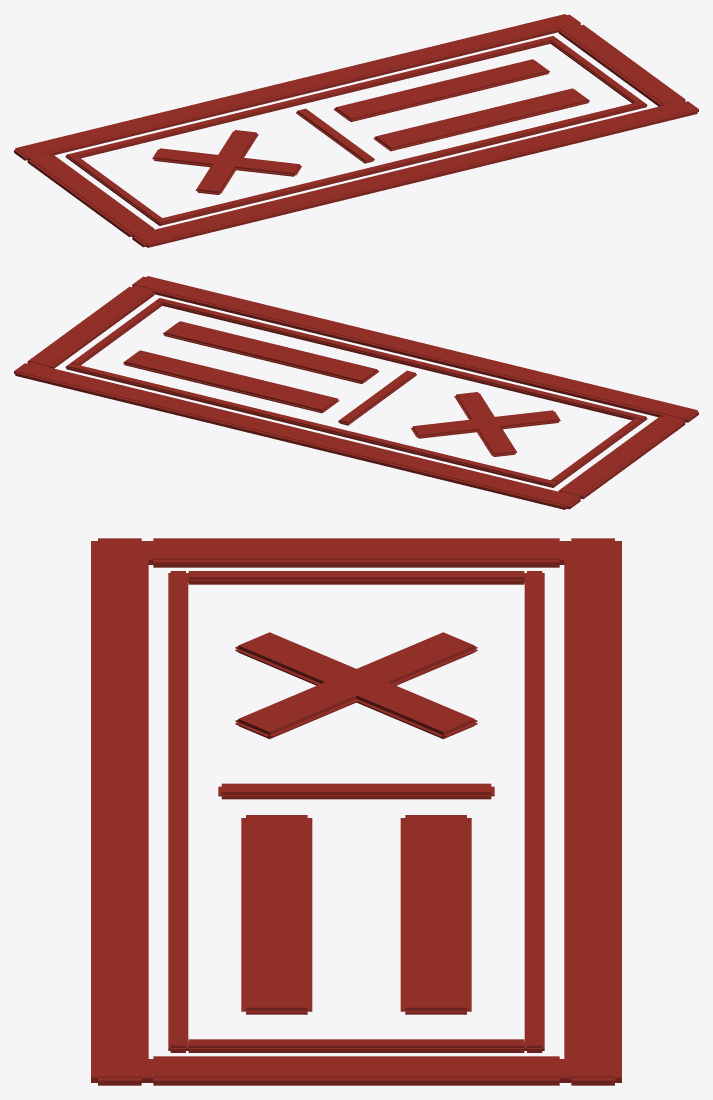
Rendered from Doc_StampInkMark_Reject.fbx.
The picture shows the model from 3 angles, top to bottom: view 1: azimuth 30°, elevation 25°; view 2: azimuth 150°, elevation 25°; view 3: azimuth 270°, elevation 25°; orthographic projection. The views are drawn at different scales.
Visible parts, largest first — view 1: InkMarkReject_Mat_StampInk_Reject; view 2: InkMarkReject_Mat_StampInk_Reject; view 3: InkMarkReject_Mat_StampInk_Reject.
Part boxes in pixels (left/top/right/bottom): InkMarkReject_Mat_StampInk_Reject: left=14, top=14, right=698, bottom=247; InkMarkReject_Mat_StampInk_Reject: left=14, top=276, right=698, bottom=509; InkMarkReject_Mat_StampInk_Reject: left=91, top=538, right=621, bottom=1085.
Bounding box in the file's own units: 5.8 × 0.036 × 2.4.
